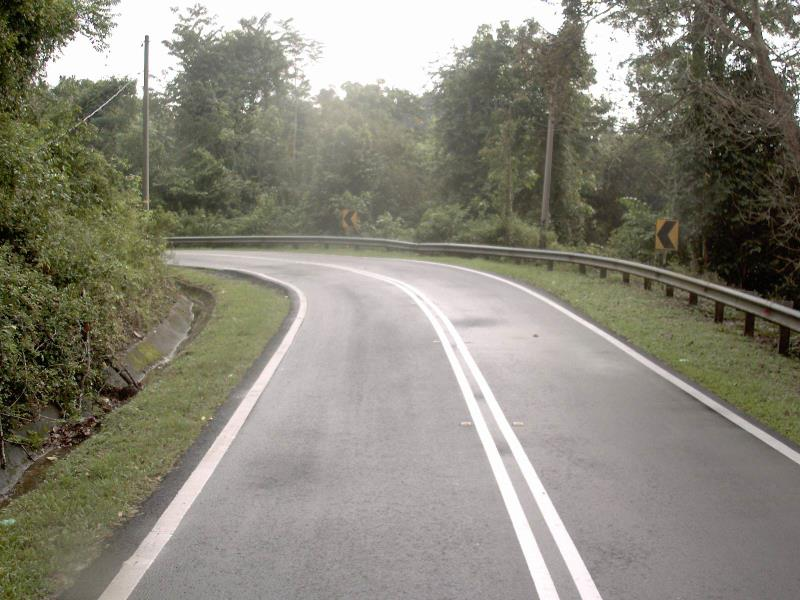traffic_sign: (647, 211, 685, 259)
